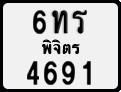letters: (51, 9, 68, 34), (71, 9, 88, 34), (43, 59, 58, 86), (61, 59, 76, 86), (32, 9, 47, 35), (26, 59, 40, 86), (82, 60, 93, 86)
province: (41, 38, 81, 55)
